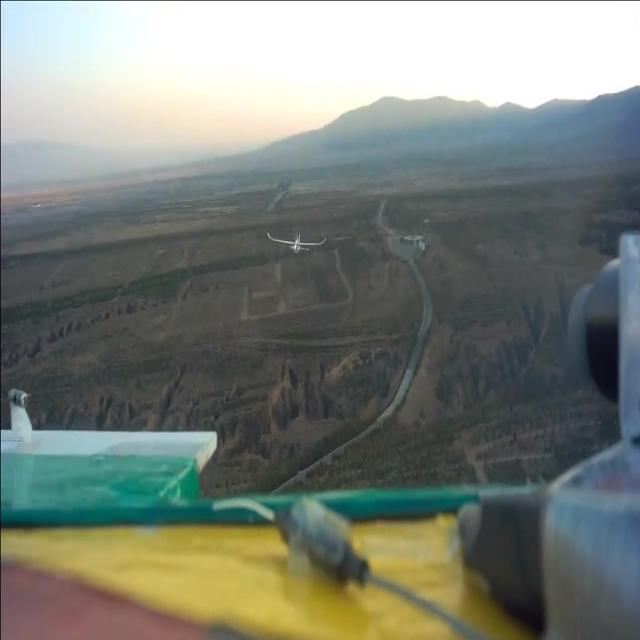iha: (267, 223, 327, 254)
